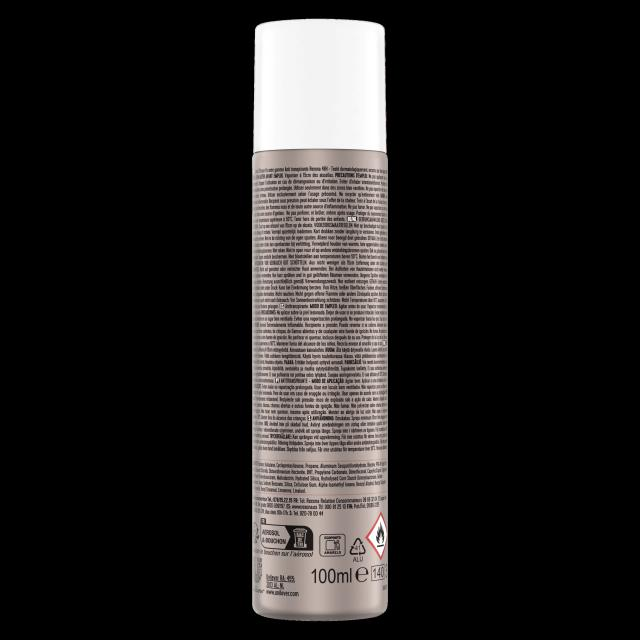GHS_Symbol_FLAME: (367, 510, 387, 560)
